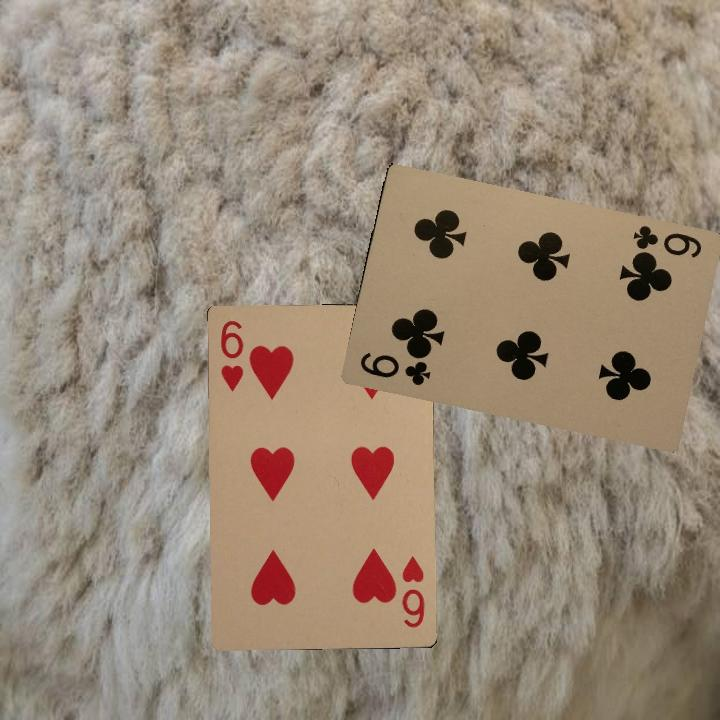6c: (628, 221, 704, 262), (356, 348, 433, 388)
6h: (397, 554, 427, 630), (217, 317, 246, 394)
